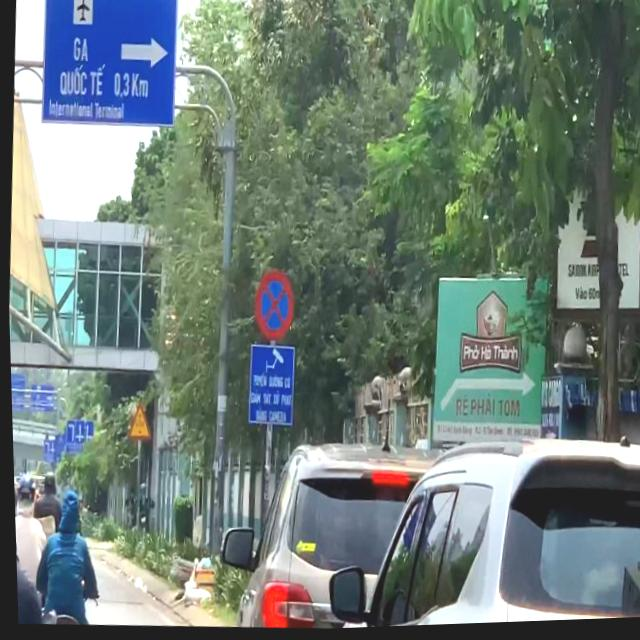Cam dung xe va do xe: (250, 271, 295, 344)
Chieu cao an toan: (123, 402, 150, 442)
